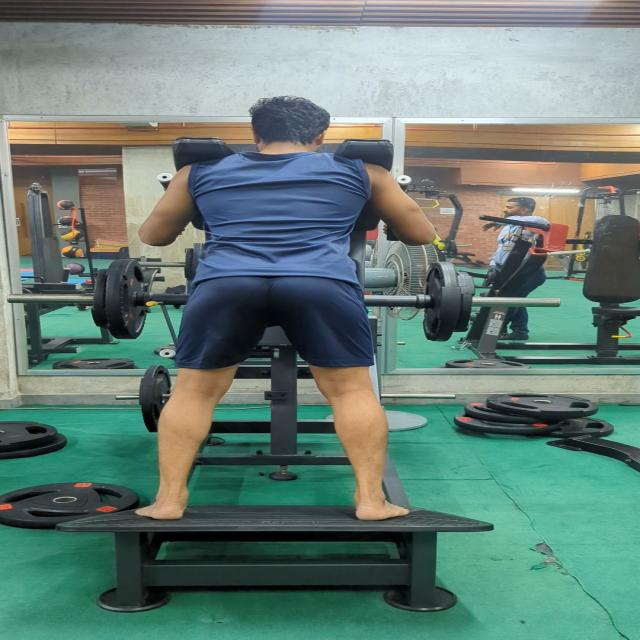Normal_SquatsWithBarbell: (134, 83, 450, 530)
